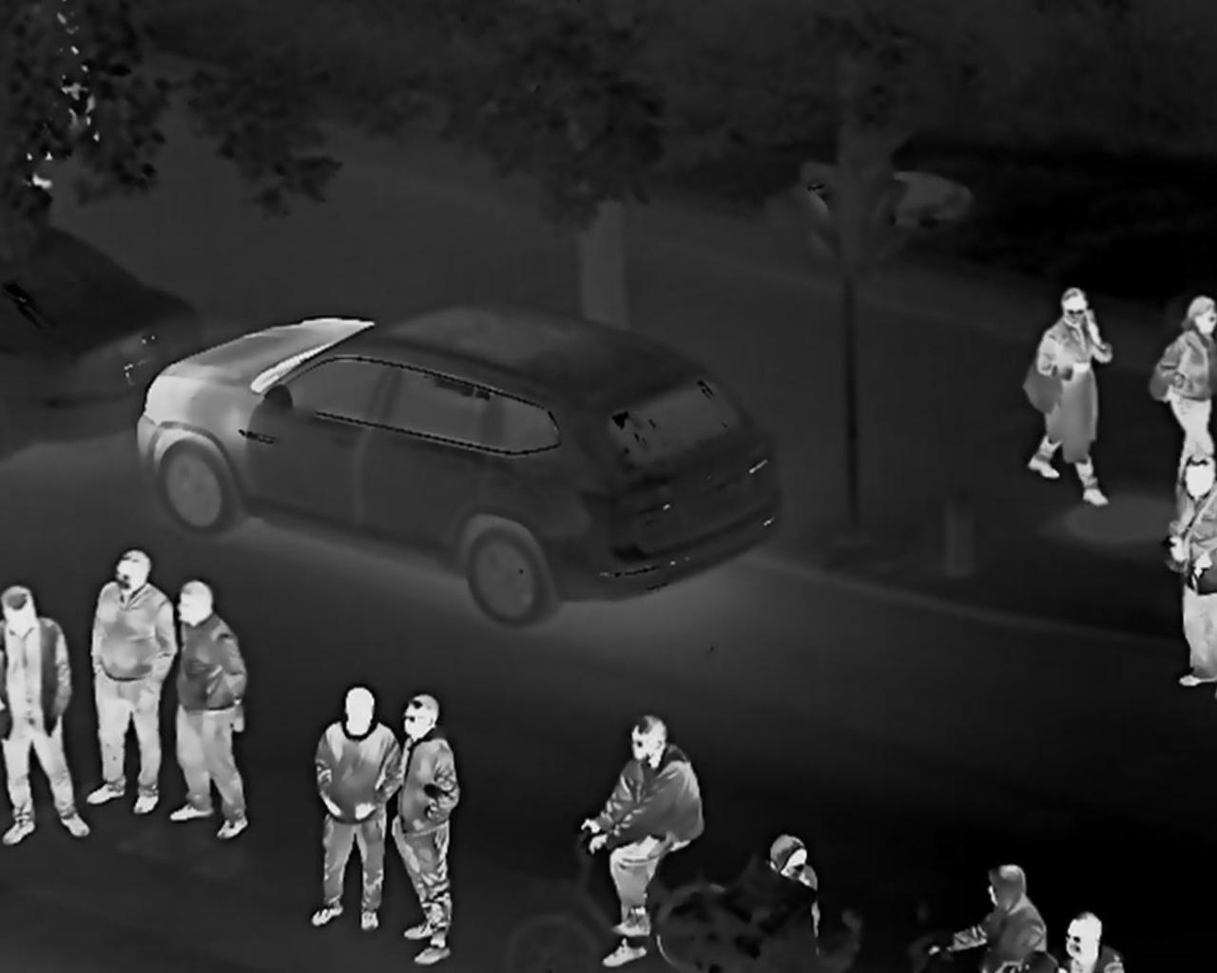person: (589, 715, 698, 969), (170, 570, 271, 828), (385, 684, 472, 937), (1032, 278, 1119, 517), (99, 543, 161, 811), (9, 588, 78, 825), (925, 862, 1061, 973), (313, 677, 380, 890), (1162, 286, 1213, 467), (757, 831, 832, 935), (1180, 473, 1217, 668), (1067, 899, 1131, 973)
